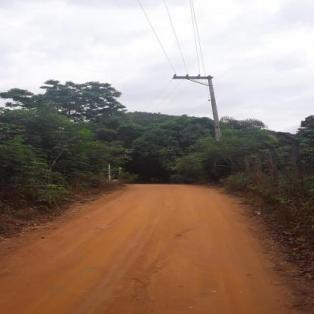Poste: (202, 74, 224, 139)
